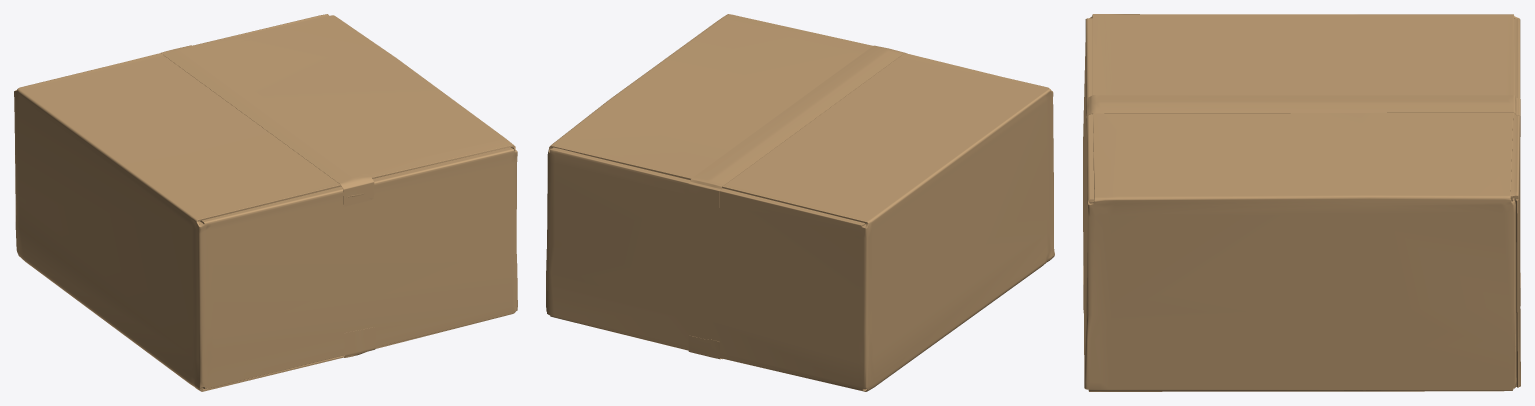
Rendered from box_flat_brown_b09.glb.
3 renders of one model, left to right at view 1: azimuth 30°, elevation 25°; view 2: azimuth 150°, elevation 25°; view 3: azimuth 270°, elevation 25°, orthographic. The views are drawn at different scales.
Size of the model in its own units: 0.3148 by 0.1625 by 0.3182.
